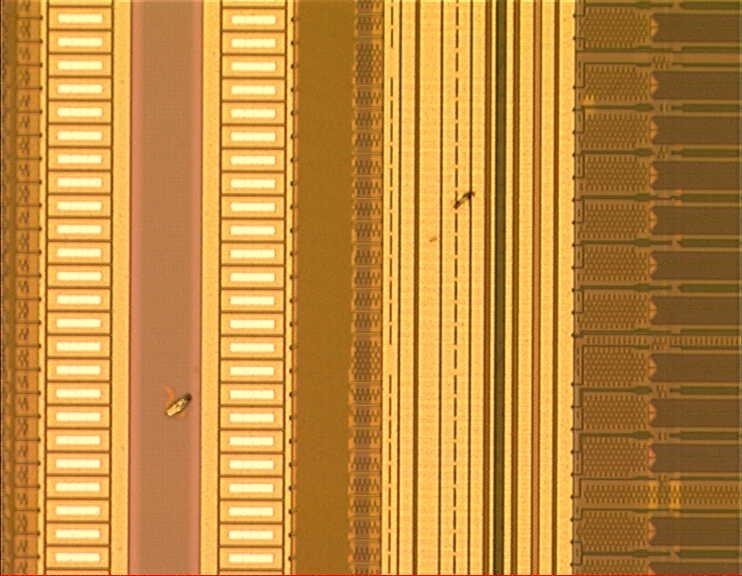SCRATCH: (143, 183, 485, 429)
